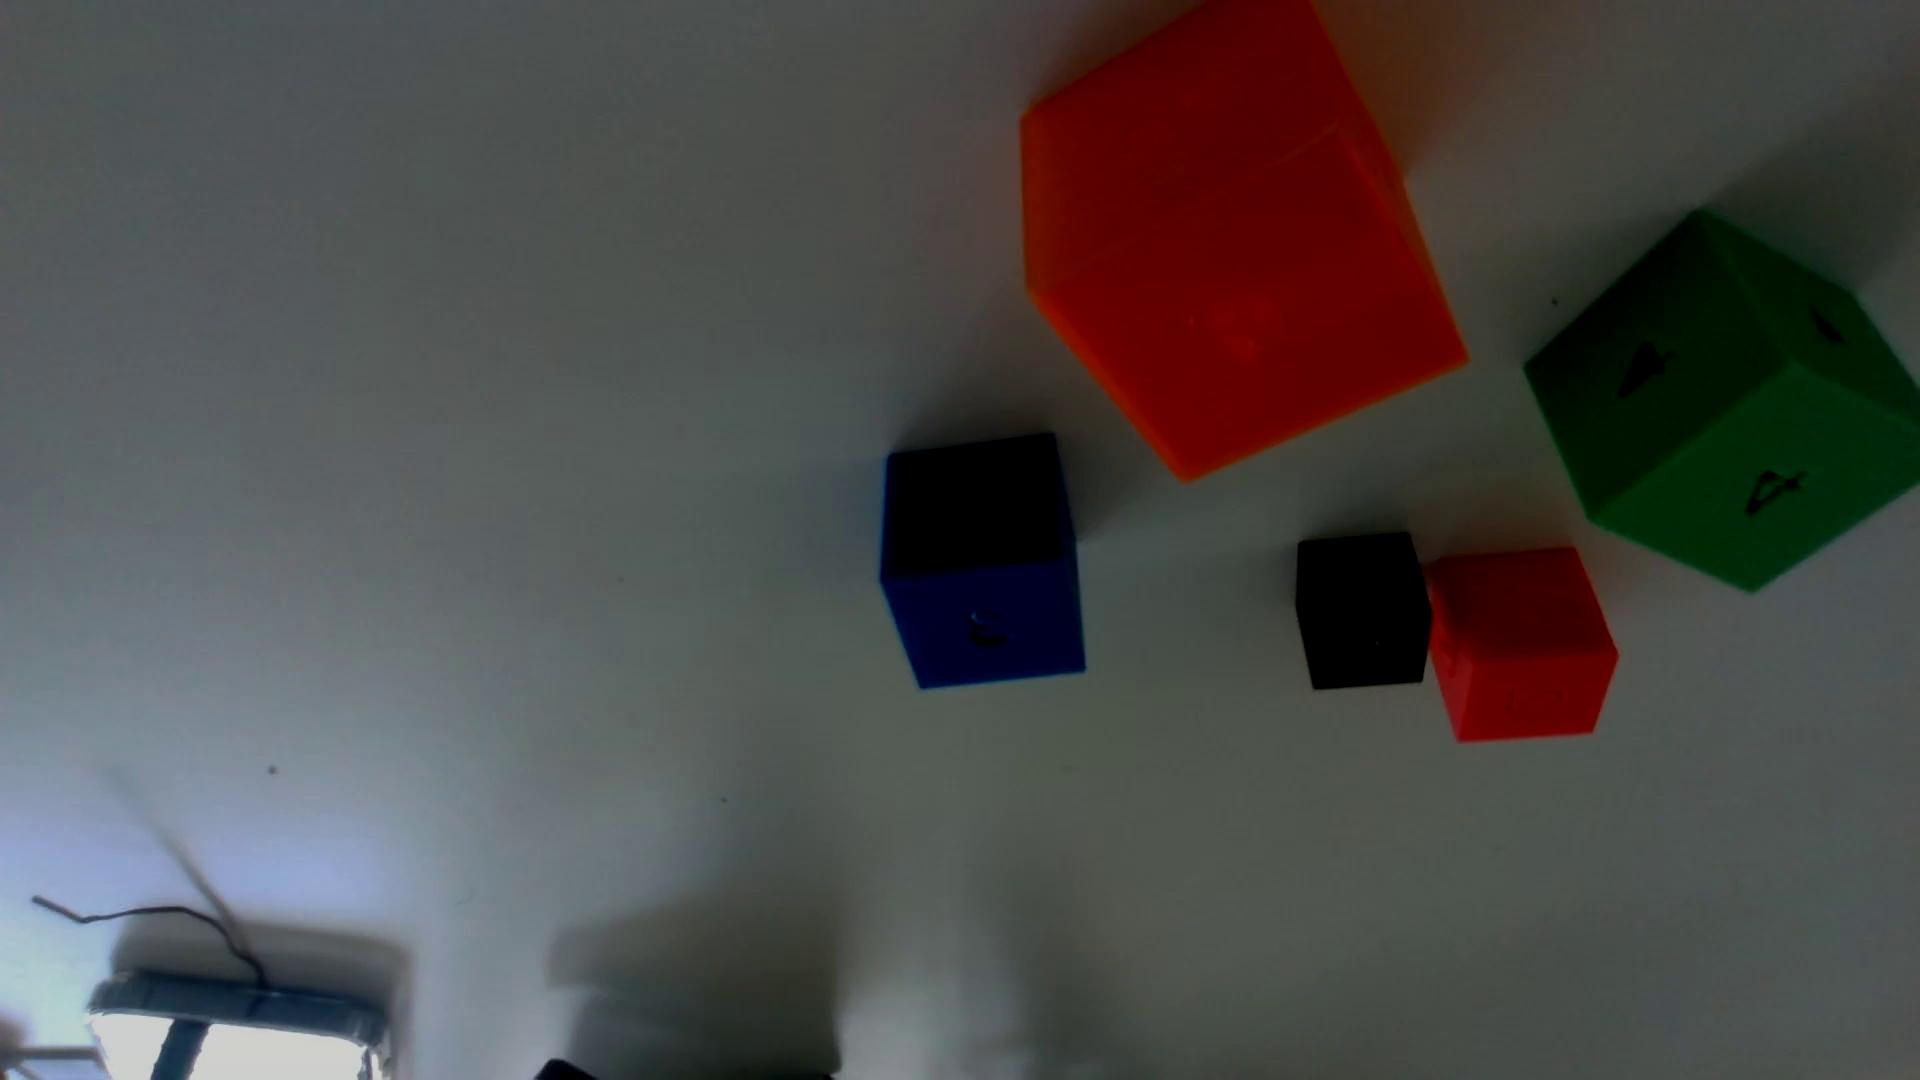black: (1294, 531, 1429, 688)
blue: (880, 433, 1087, 688)
green: (1524, 212, 1920, 589)
orange: (1021, 0, 1466, 479)
red: (1429, 546, 1617, 742)
